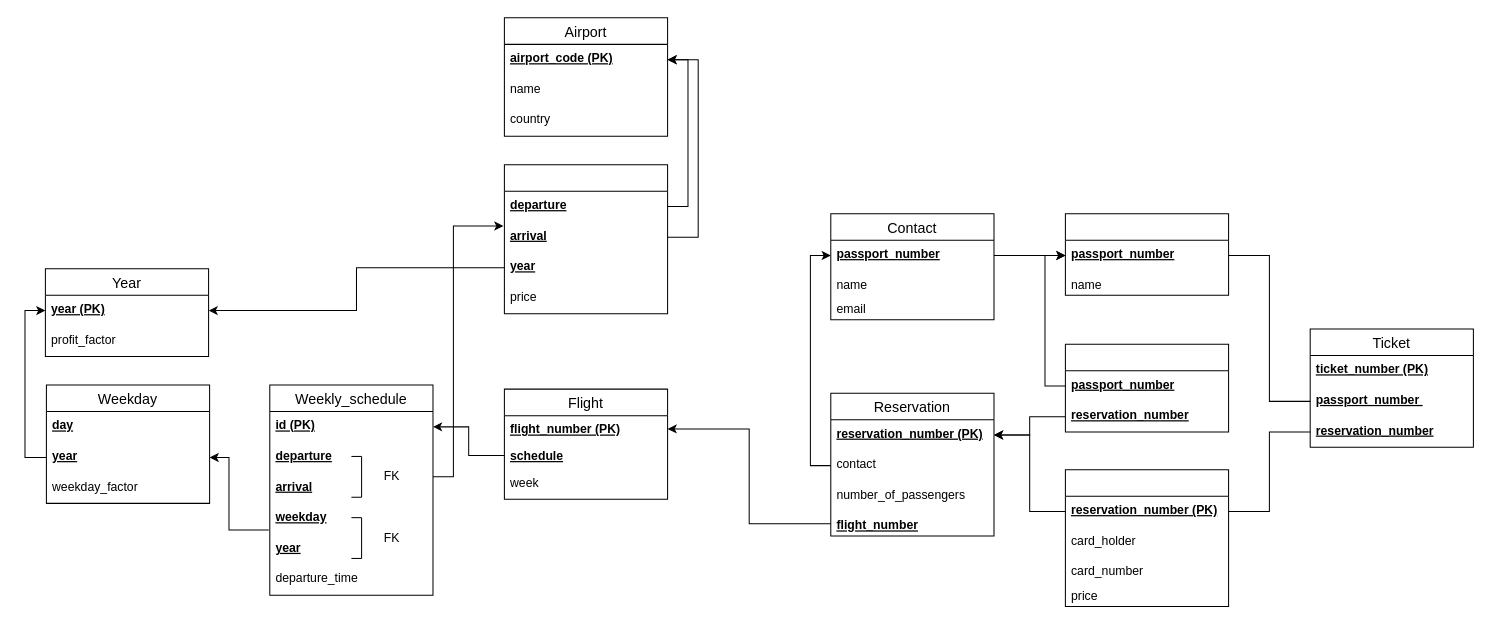
This 1491x627 diagram has some shape labels left out. The shapes that lost their labels are listed below. From the top down, each one's box as (x1, y1, x2, y2) in pixels, then its label:
(503, 164, 668, 314): Route
(1064, 213, 1229, 295): Passenger
(1064, 343, 1229, 432): Has_reservation
(1064, 469, 1229, 606): Booking
